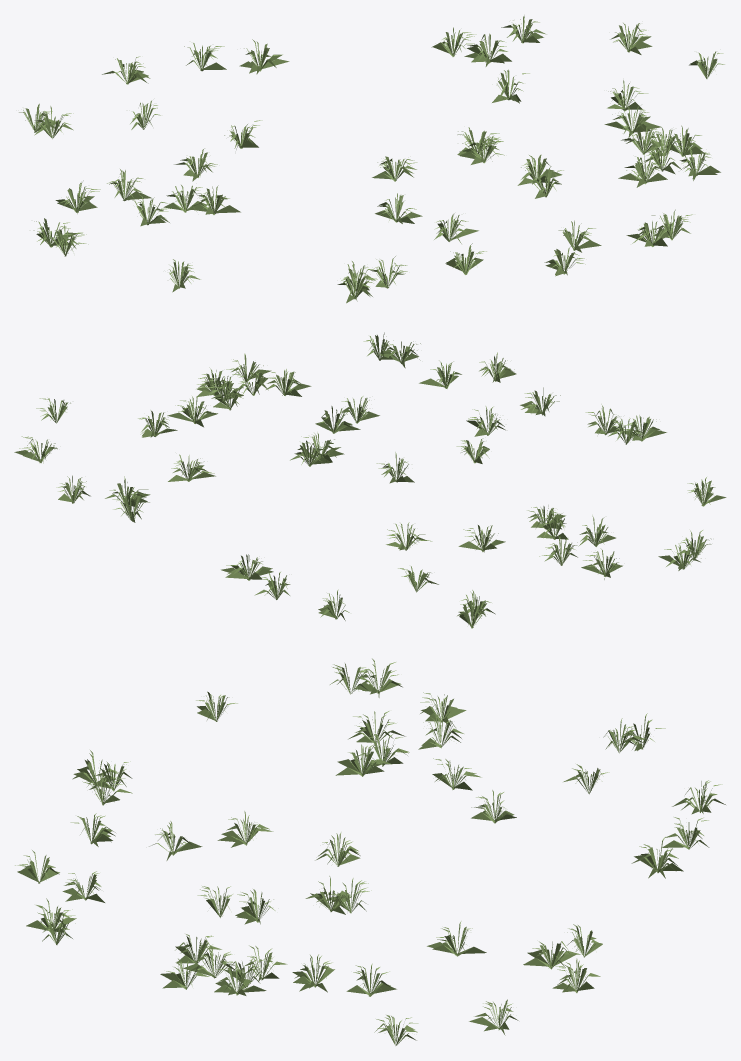
Rendered from teaching3-vegetation-19-medium.glb.
The picture shows the model from 3 angles, top to bottom: view 1: azimuth 30°, elevation 25°; view 2: azimuth 150°, elevation 25°; view 3: azimuth 270°, elevation 25°; orthographic projection. The views are drawn at different scales.
Parts seen in each view (by area): view 1: mondo grass.002; view 2: mondo grass.002; view 3: mondo grass.002.
Part boxes in pixels (bbox=[...]): mondo grass.002: bbox=[19, 15, 724, 303]; mondo grass.002: bbox=[14, 332, 726, 628]; mondo grass.002: bbox=[15, 658, 725, 1045].
Size of the model in its own units: 13.53 by 0.4847 by 10.87.
